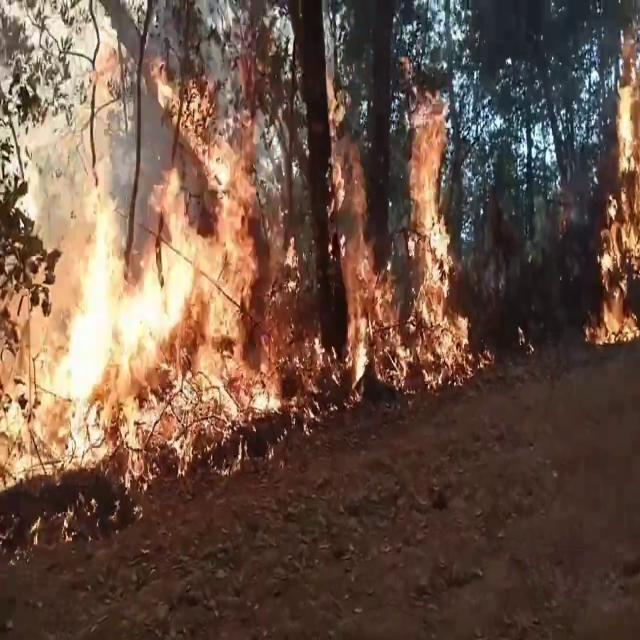Fire: (30, 54, 298, 453), (320, 83, 476, 397), (591, 30, 640, 347)
